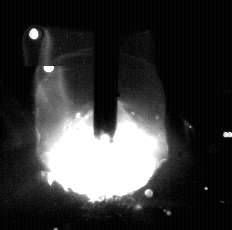arame: (95, 0, 119, 139)
poca: (35, 0, 167, 230)
